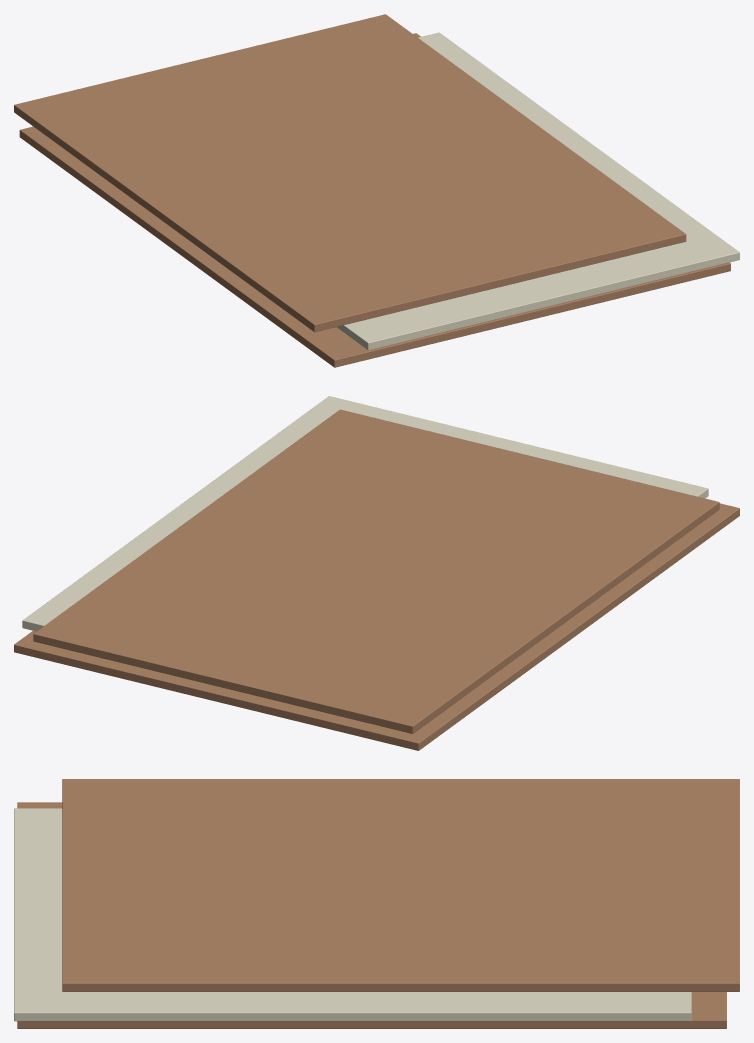
The model's file is scavengers-loot-library-sandpaper-stack-f87c95f8__2609.glb.
3 views of the same model, one above another, from view 1: azimuth 30°, elevation 25°; view 2: azimuth 150°, elevation 25°; view 3: azimuth 270°, elevation 25° (orthographic). The views are drawn at different scales.
Parts seen in each view (by area): view 1: sandpaper-stack; view 2: sandpaper-stack; view 3: sandpaper-stack.
Part boxes in pixels (x1,y1,x2,y2): sandpaper-stack: [14, 14, 739, 367]; sandpaper-stack: [14, 396, 739, 750]; sandpaper-stack: [14, 779, 739, 1028].
Bounding box in the file's own units: 0.163 × 0.011 × 0.225.
